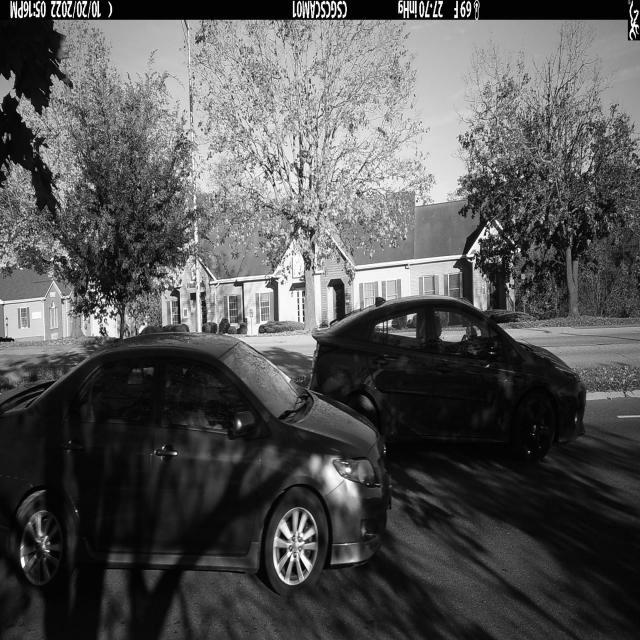Hatchback: (309, 295, 588, 462)
Sedan: (0, 334, 391, 599)
